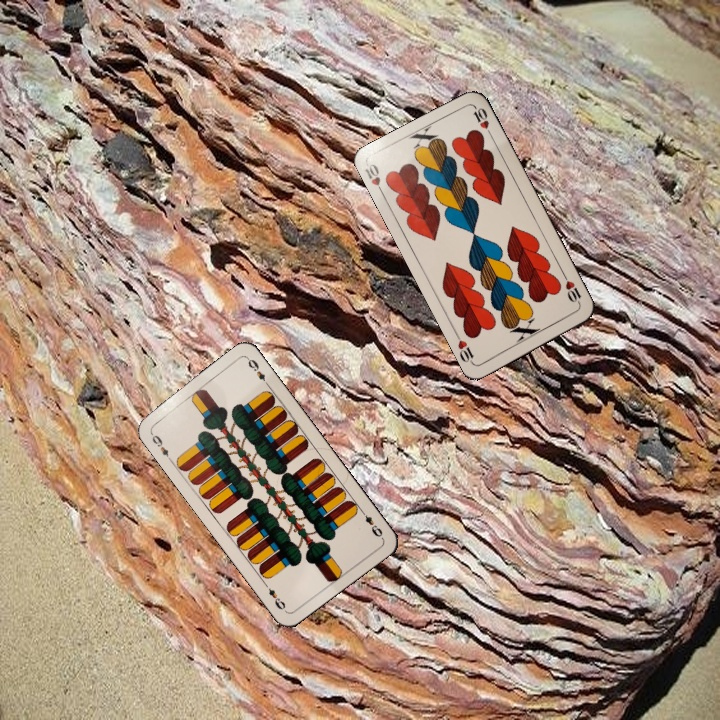E9: (357, 505, 385, 541), (146, 428, 174, 463)
H10: (361, 160, 387, 199), (559, 270, 584, 308)
